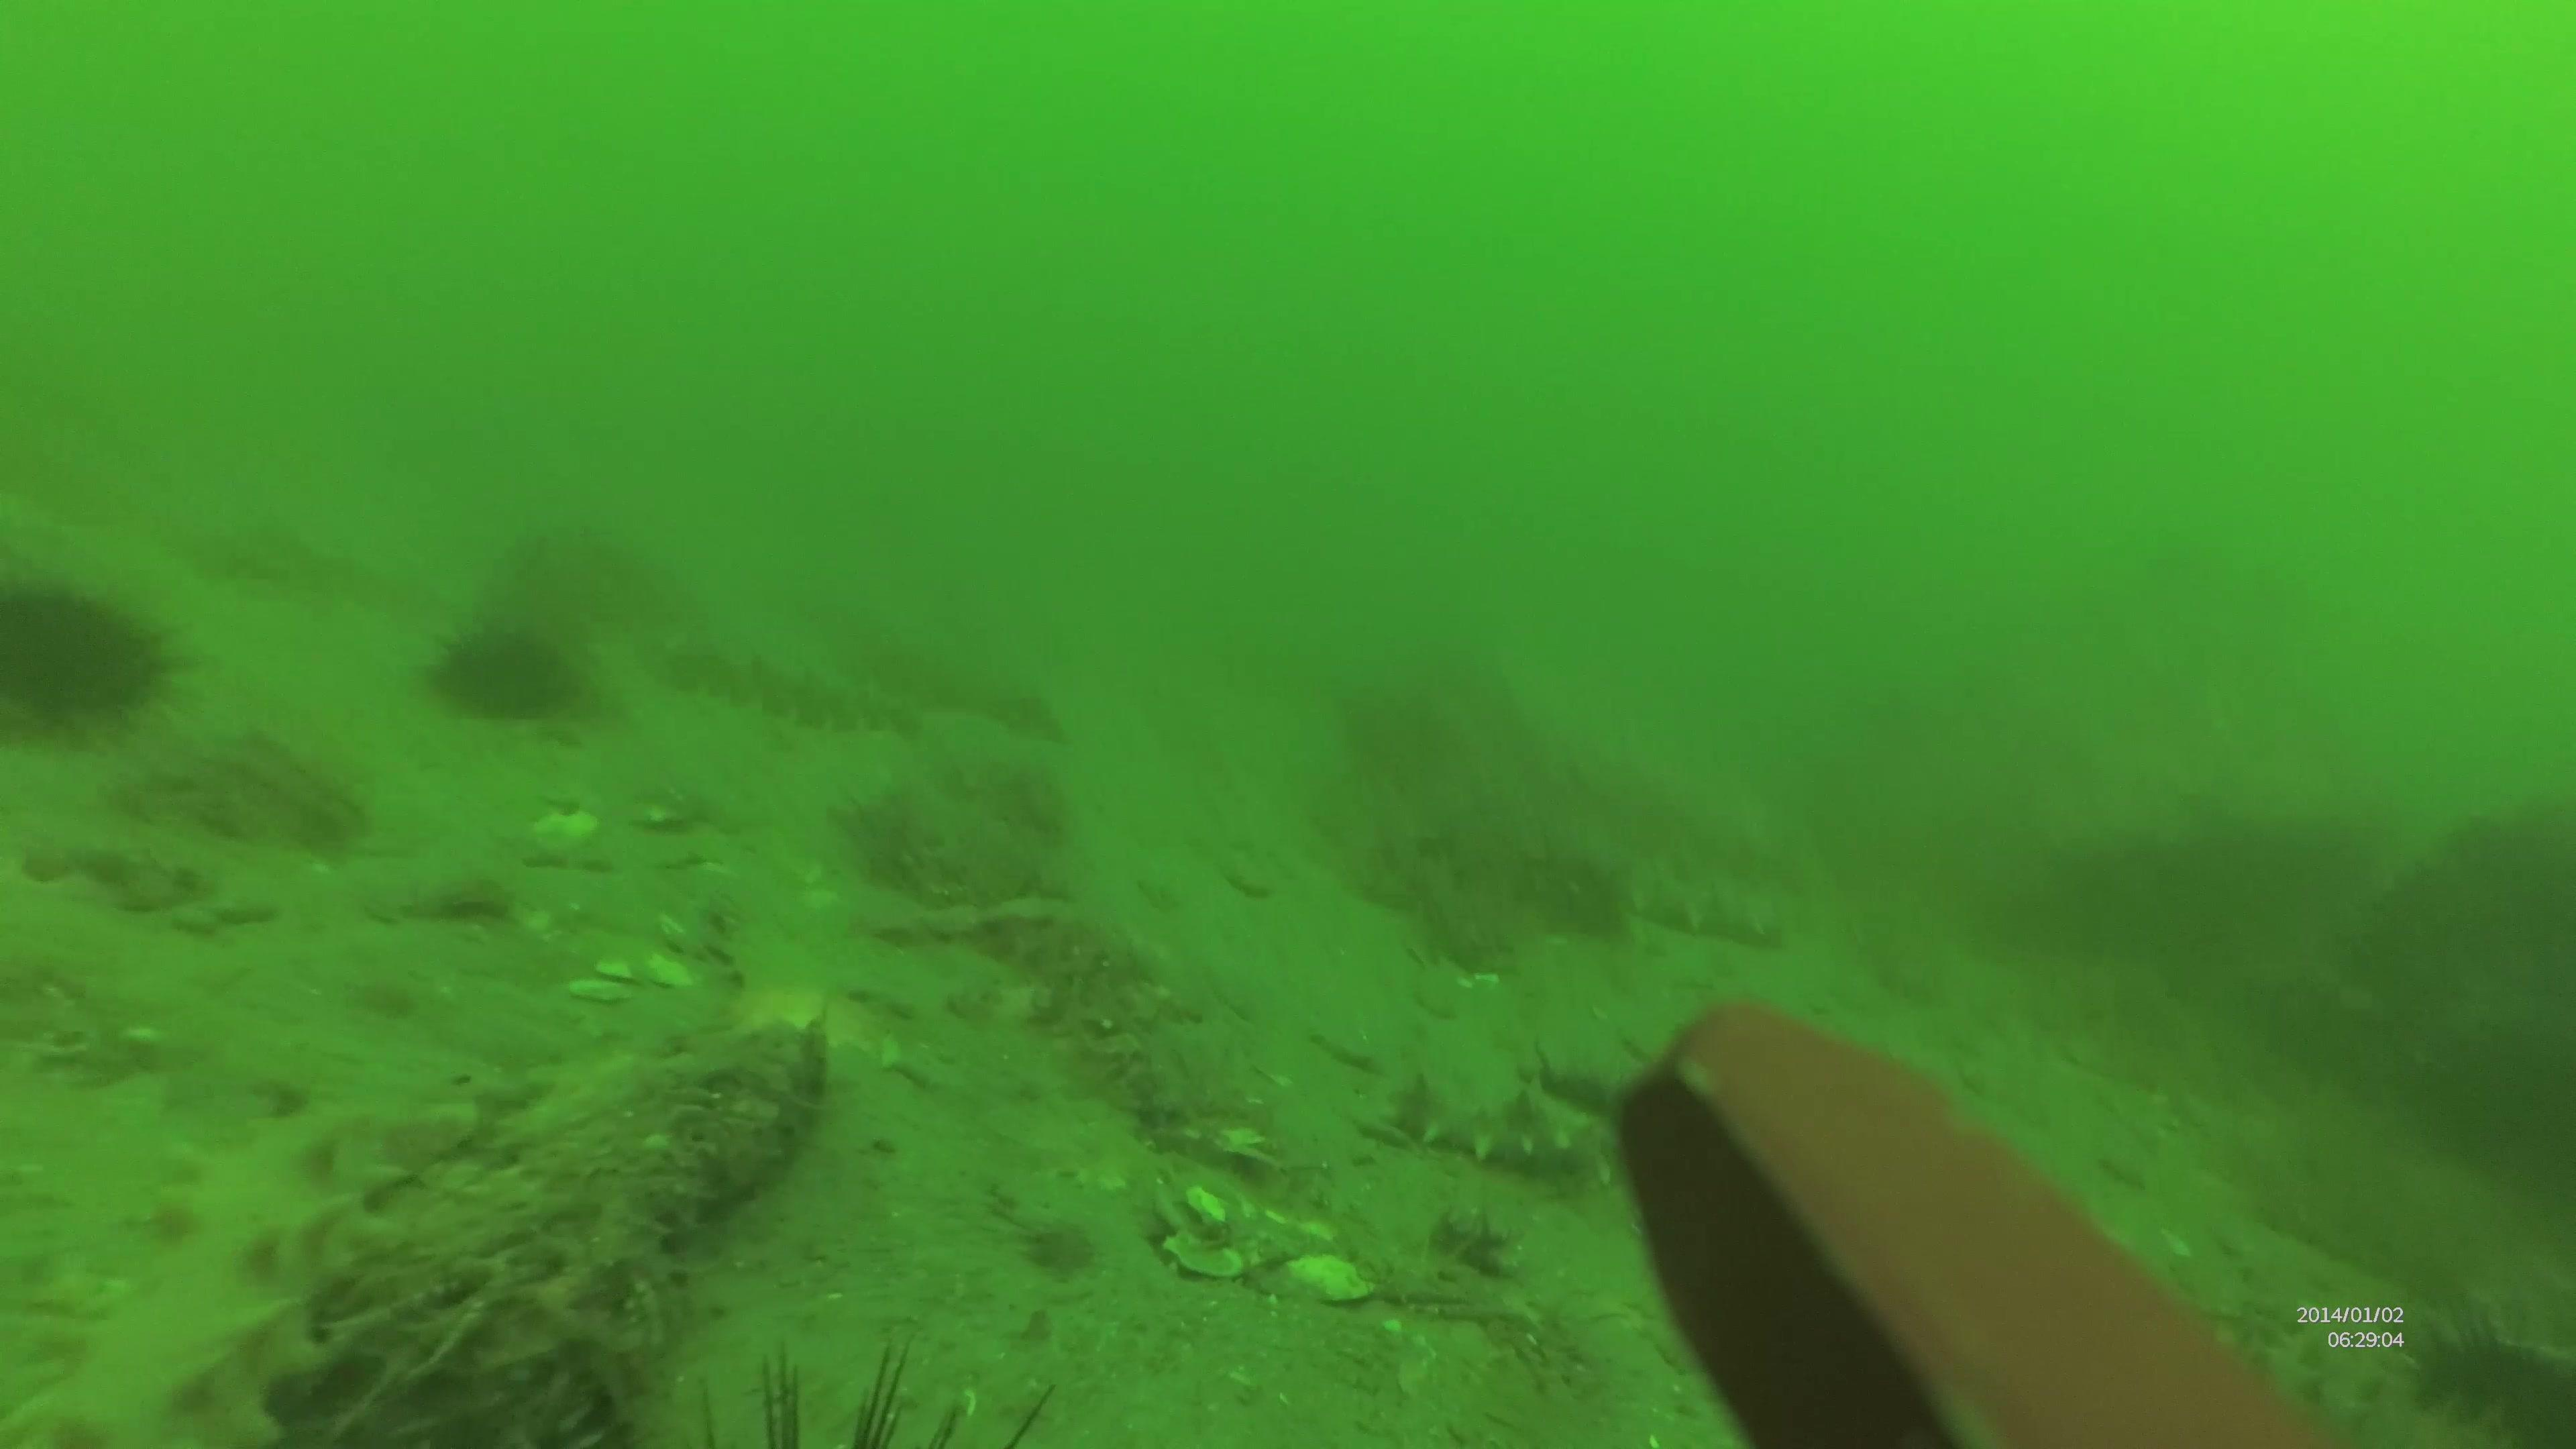echinus: (4, 570, 203, 734), (2424, 1293, 2576, 1449), (428, 617, 582, 724)
holothurian: (11, 1067, 490, 1433), (1357, 1014, 1605, 1182), (2235, 1316, 2514, 1449), (669, 635, 929, 745), (1614, 856, 1794, 952)
scallop: (1256, 1238, 1369, 1316)
